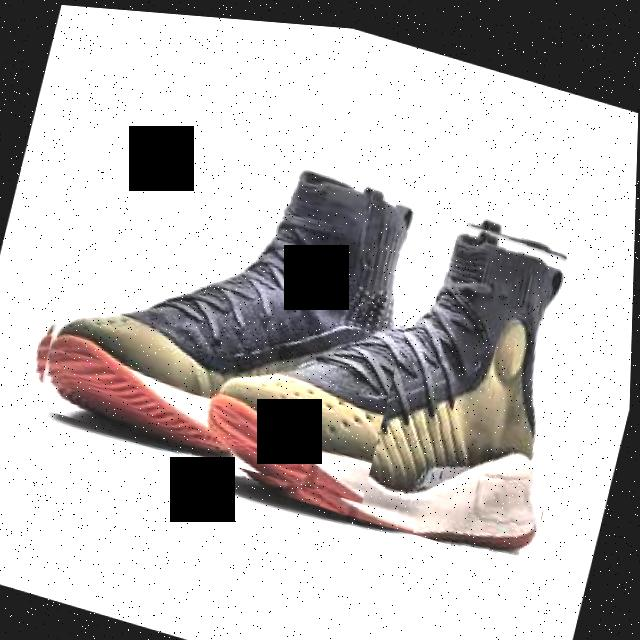shoe: (181, 141, 611, 564), (24, 99, 438, 501)
